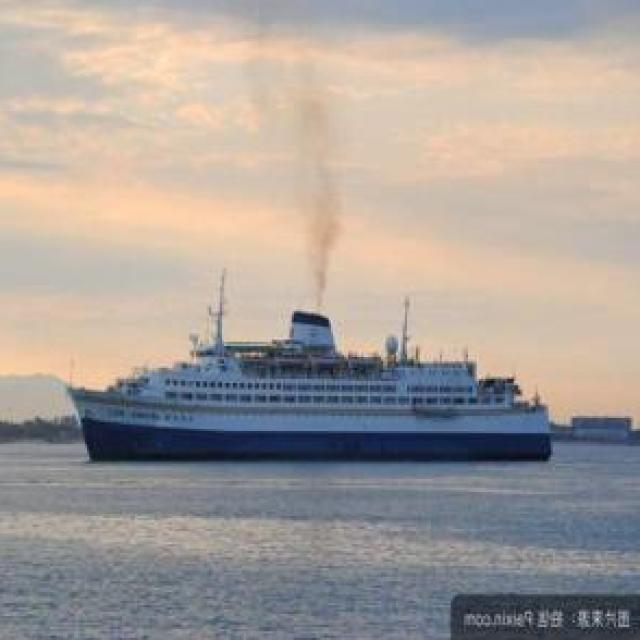passenger ship: (67, 300, 555, 464)
